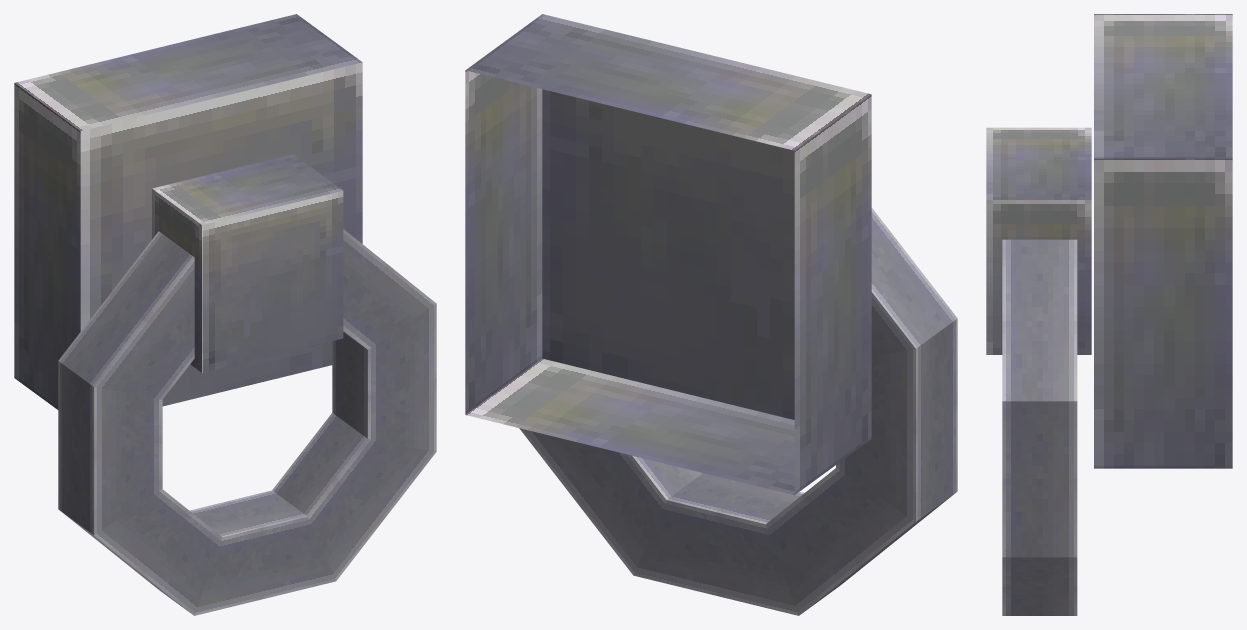
File: WallRing.fbx
3 renders of one model, left to right at view 1: azimuth 30°, elevation 25°; view 2: azimuth 150°, elevation 25°; view 3: azimuth 270°, elevation 25°, orthographic. The views are drawn at different scales.
Visible parts, largest first — view 1: WallRing; view 2: WallRing; view 3: WallRing.
Boxes of the visible parts, x1,y1,x2,y2 form: WallRing: (14,14,436,615); WallRing: (465,14,957,615); WallRing: (986,14,1232,615).
Bounding box in the file's own units: 0.2411 × 0.3162 × 0.1429.
